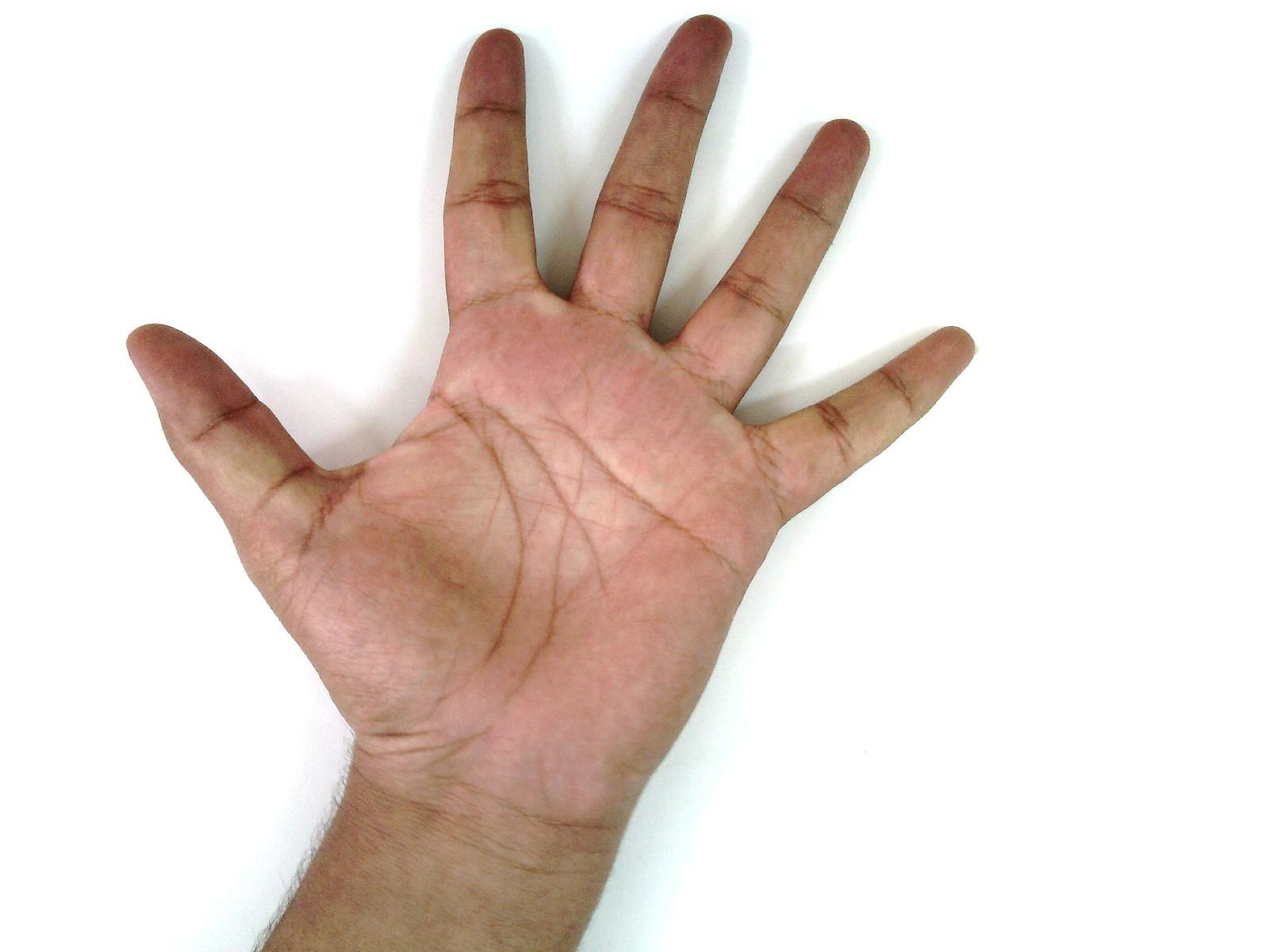open_palm: (122, 12, 978, 827)
